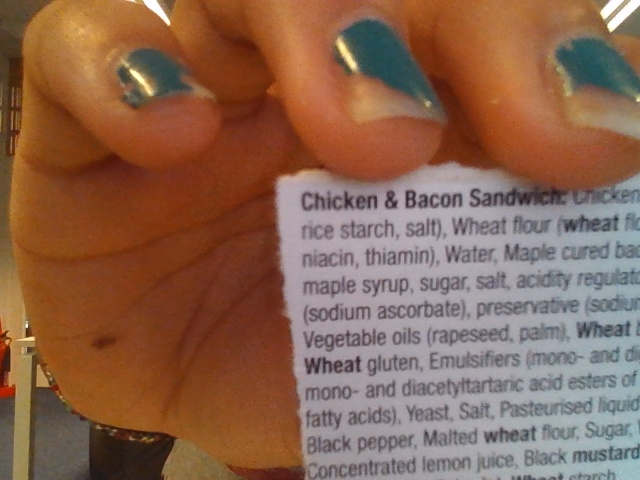chicken: (300, 189, 380, 212)
